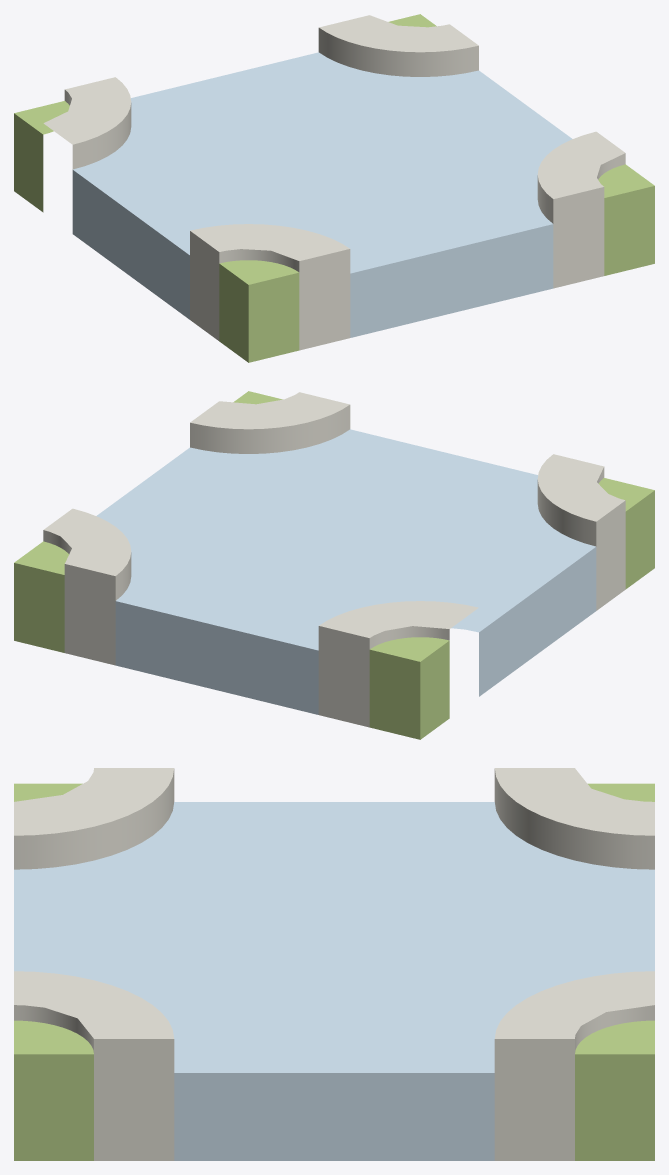
Rendered from roadTile_251.glb.
The picture shows the model from 3 angles, top to bottom: view 1: azimuth 30°, elevation 25°; view 2: azimuth 150°, elevation 25°; view 3: azimuth 270°, elevation 25°; orthographic projection. The views are drawn at different scales.
Parts seen in each view (by area): view 1: Mesh1 Group1 Model; view 2: Mesh1 Group1 Model; view 3: Mesh1 Group1 Model.
Part boxes in pixels (<box>): Mesh1 Group1 Model: <box>14,14,654,362</box>; Mesh1 Group1 Model: <box>14,391,654,739</box>; Mesh1 Group1 Model: <box>14,768,654,1160</box>.
Size of the model in its own units: 3 by 0.63 by 3.
